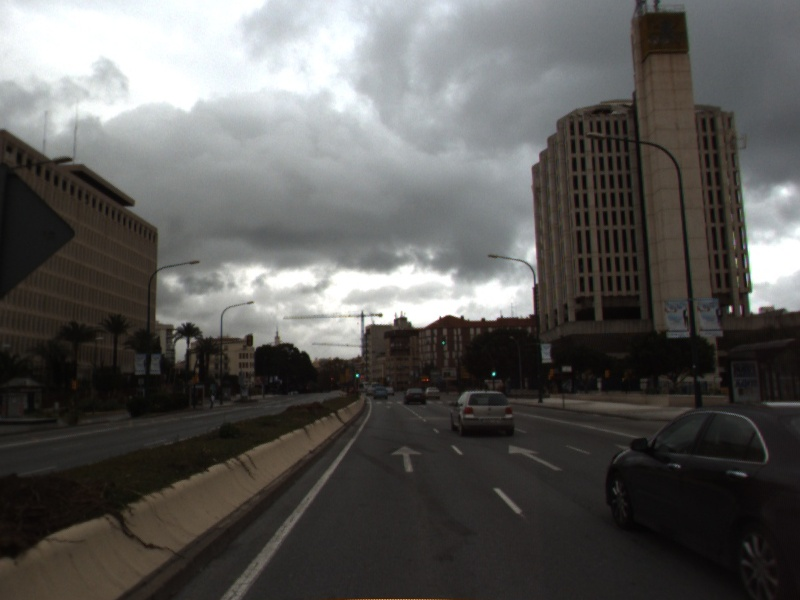STRAIGHT: (506, 442, 565, 473), (388, 443, 426, 475)
